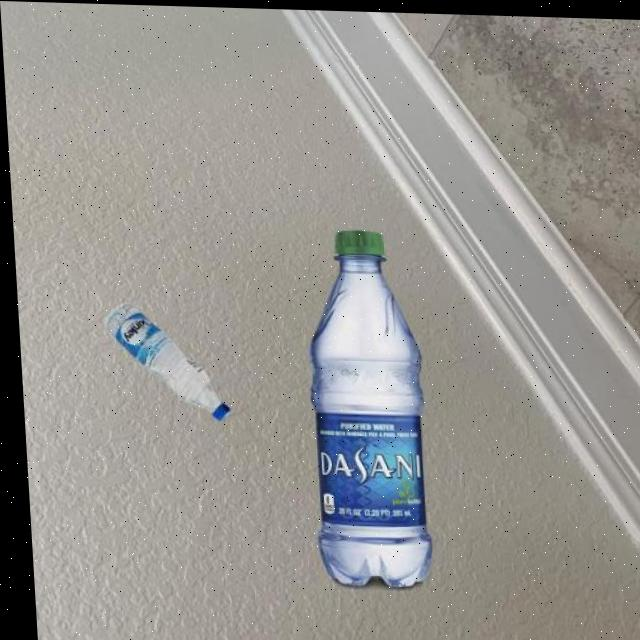bottle: (294, 226, 429, 588), (96, 302, 227, 421)
